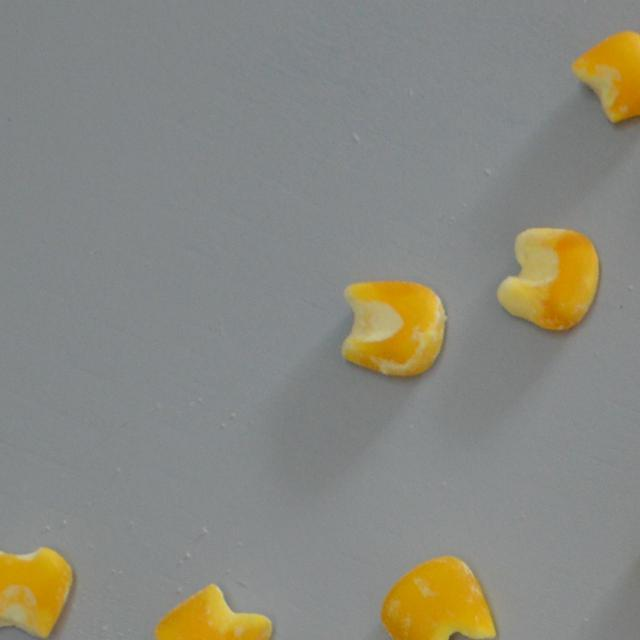no_canjicado: (0, 546, 73, 639), (570, 28, 640, 124)
pelicula: (496, 226, 600, 332), (340, 279, 444, 376), (380, 554, 497, 640), (154, 582, 272, 640)
